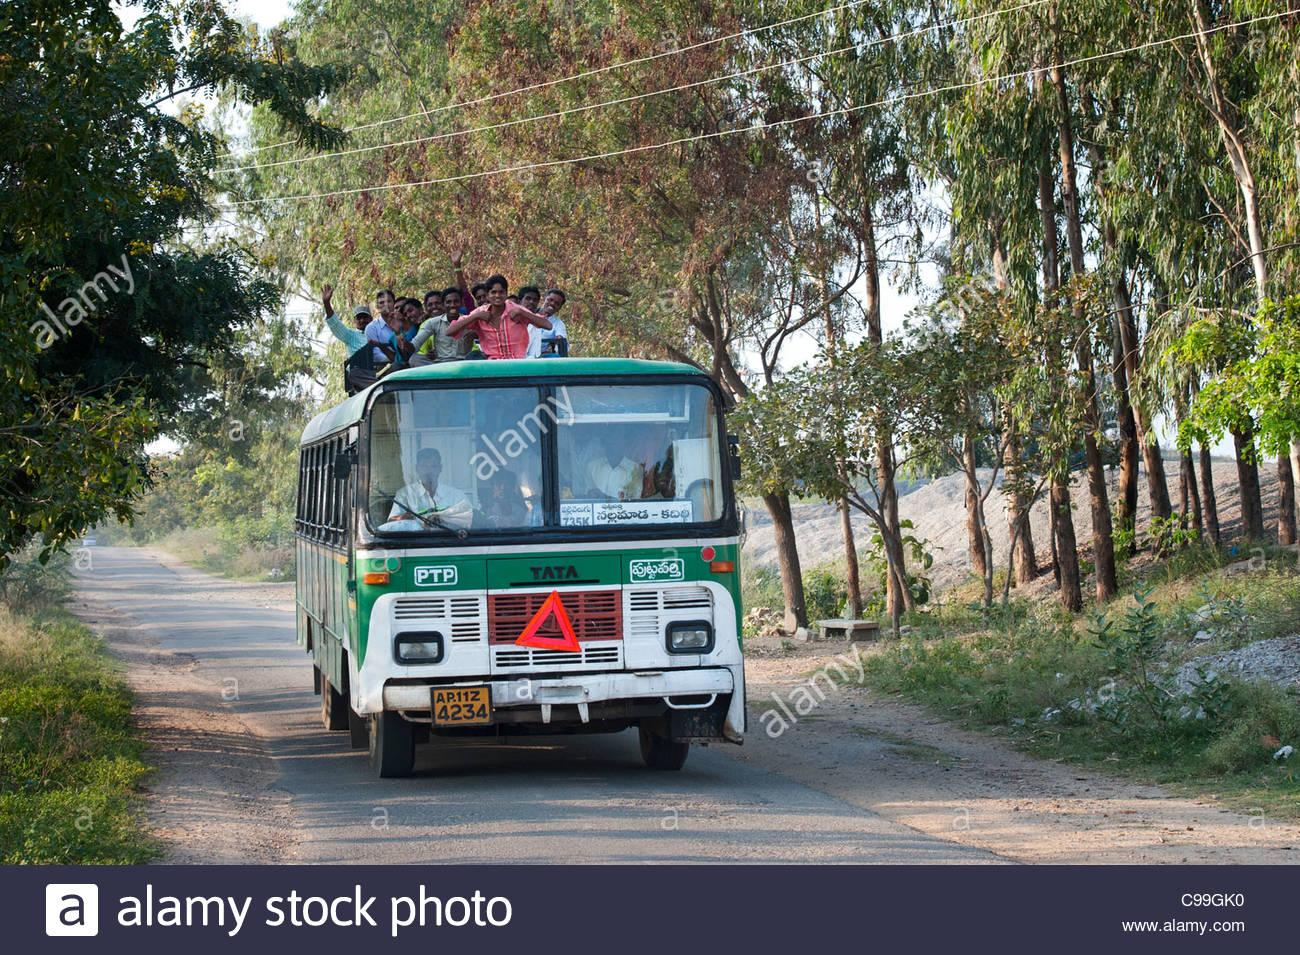bus: (296, 358, 744, 776)
